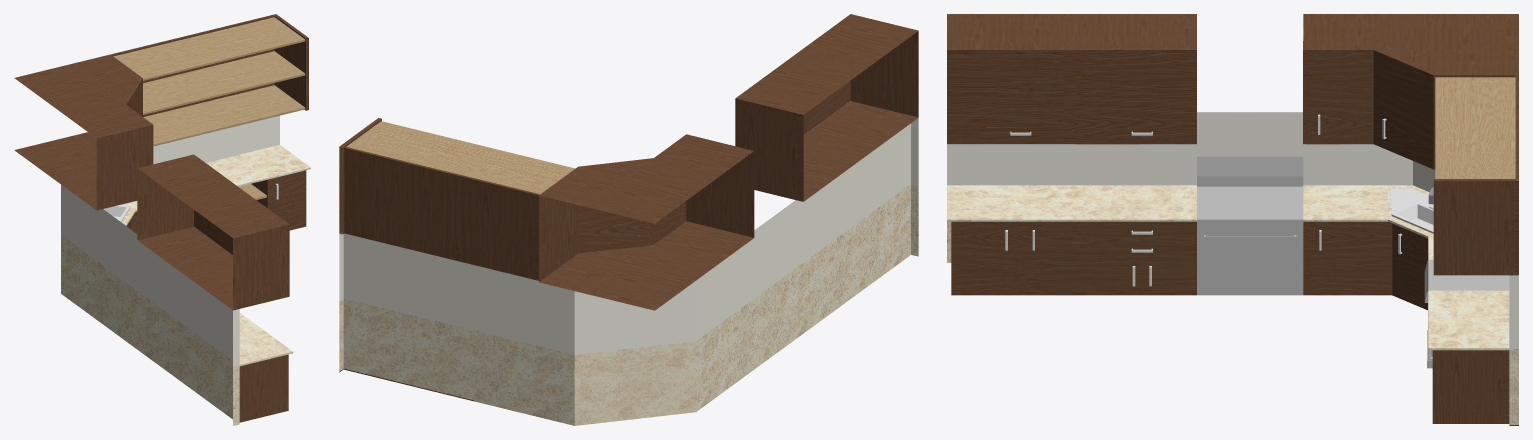
The model's file is Mdl.KitchenEdge.fbx.
3 renders of one model, left to right at view 1: azimuth 30°, elevation 25°; view 2: azimuth 150°, elevation 25°; view 3: azimuth 270°, elevation 25°, orthographic. The views are drawn at different scales.
Visible parts, largest first — view 1: Mesh.KitchenEdge; view 2: Mesh.KitchenEdge; view 3: Mesh.KitchenEdge, Mesh.Oven, Mesh.Dishwasher.
Part boxes in pixels (<box>): Mesh.KitchenEdge: <box>14,14,310,425</box>; Mesh.KitchenEdge: <box>339,14,918,425</box>; Mesh.KitchenEdge: <box>947,14,1518,425</box>; Mesh.Oven: <box>1197,156,1303,295</box>; Mesh.Dishwasher: <box>1424,259,1509,368</box>.
Size of the model in its own units: 3.8 by 2.6 by 5.5.
